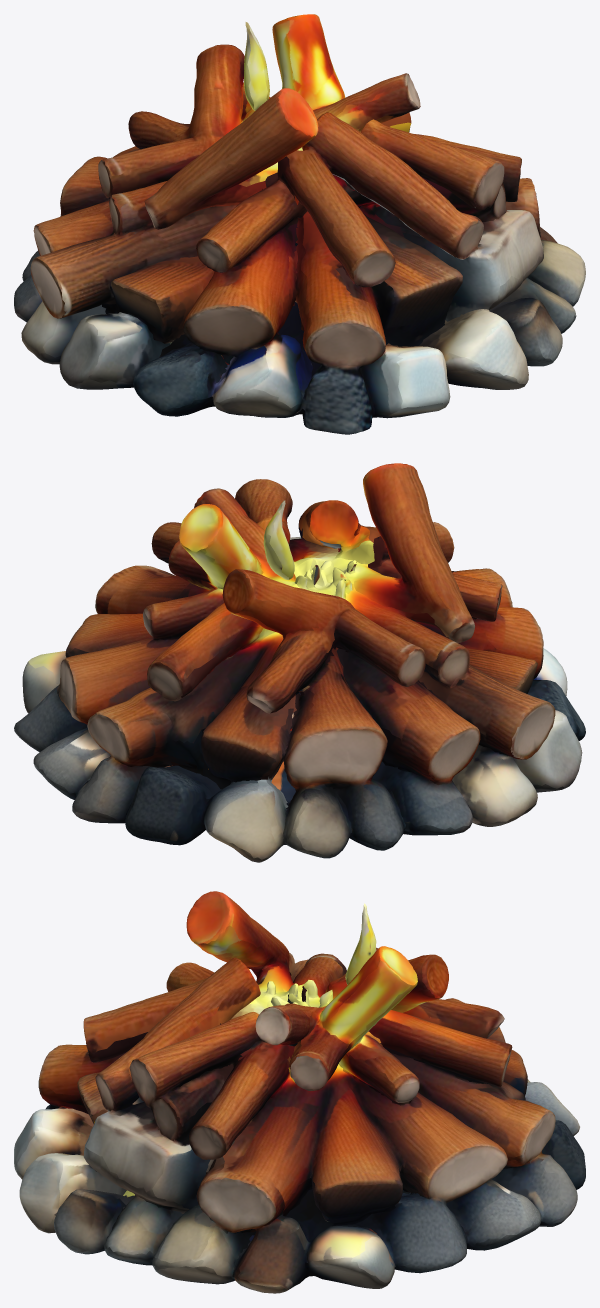
Rendered from fogata_campamento.glb.
3 views of the same model, one above another, from view 1: azimuth 30°, elevation 25°; view 2: azimuth 150°, elevation 25°; view 3: azimuth 270°, elevation 25° (orthographic).
Visible parts, largest first — view 1: tmpqi00oegd.ply; view 2: tmpqi00oegd.ply; view 3: tmpqi00oegd.ply.
Part boxes in pixels (x1,y1,x2,y2): tmpqi00oegd.ply: (14,14,585,434); tmpqi00oegd.ply: (14,463,585,862); tmpqi00oegd.ply: (14,891,585,1293).
Bounding box in the file's own units: 0.9887 × 0.5219 × 0.9881.
Materials: 1 (1 with a texture image).
